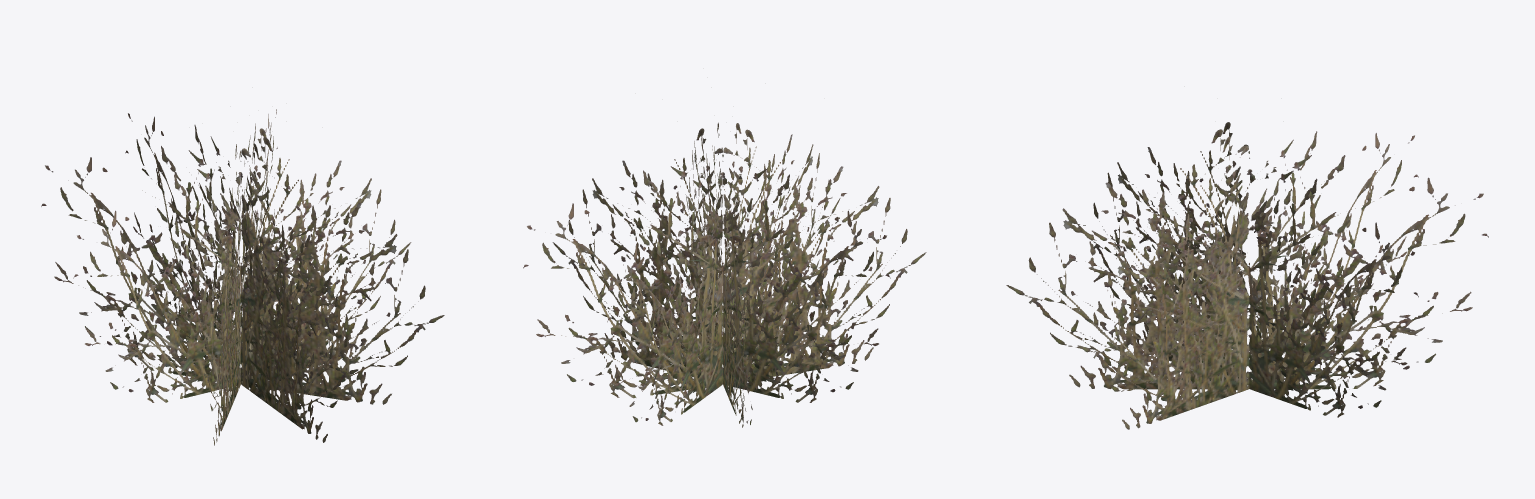
File: Plant3.fbx
3 views of the same model, side by side, from view 1: azimuth 30°, elevation 25°; view 2: azimuth 150°, elevation 25°; view 3: azimuth 270°, elevation 25° (orthographic). The views are drawn at different scales.
Visible parts, largest first — view 1: Plant3; view 2: Plant3; view 3: Plant3.
Part boxes in pixels (x1,y1,x2,y2): Plant3: (41,109,444,445); Plant3: (523,122,926,427); Plant3: (1006,122,1488,429).
Size of the model in its own units: 0.5183 by 0.6196 by 0.3524.
1 material, 1 textured.
